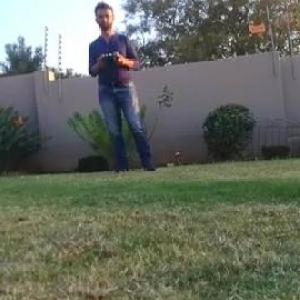follow: (84, 0, 163, 178)
